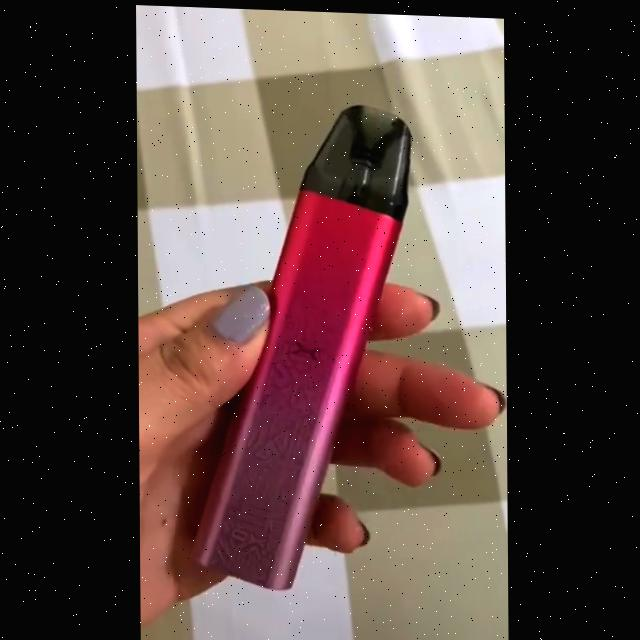vape: (189, 92, 413, 593)
